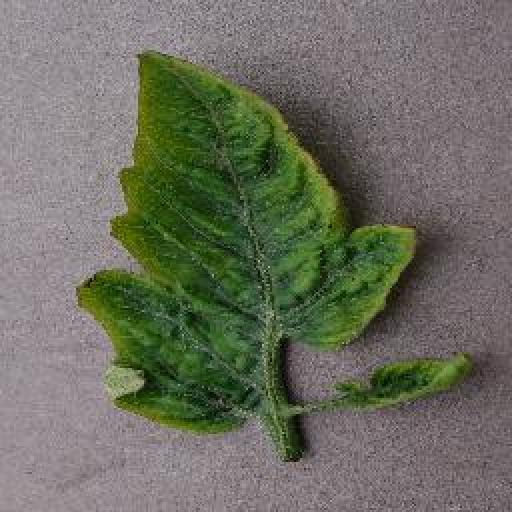disease_tomato: (76, 48, 421, 433), (337, 349, 479, 412)
